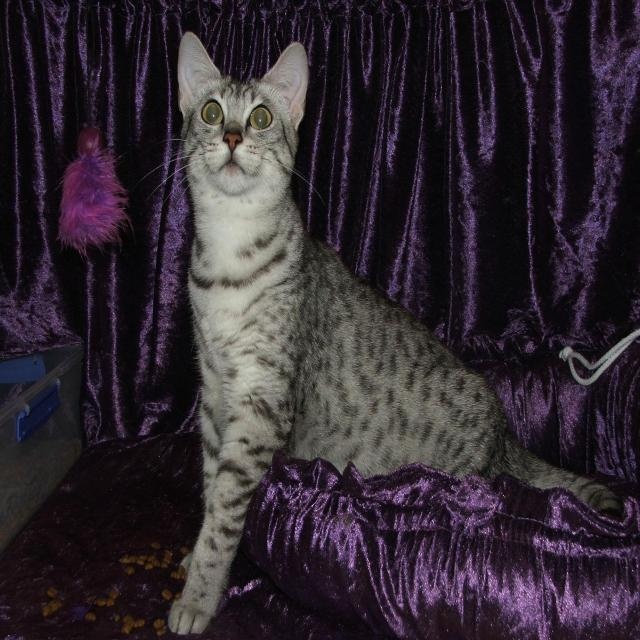cat: (167, 31, 625, 636)
